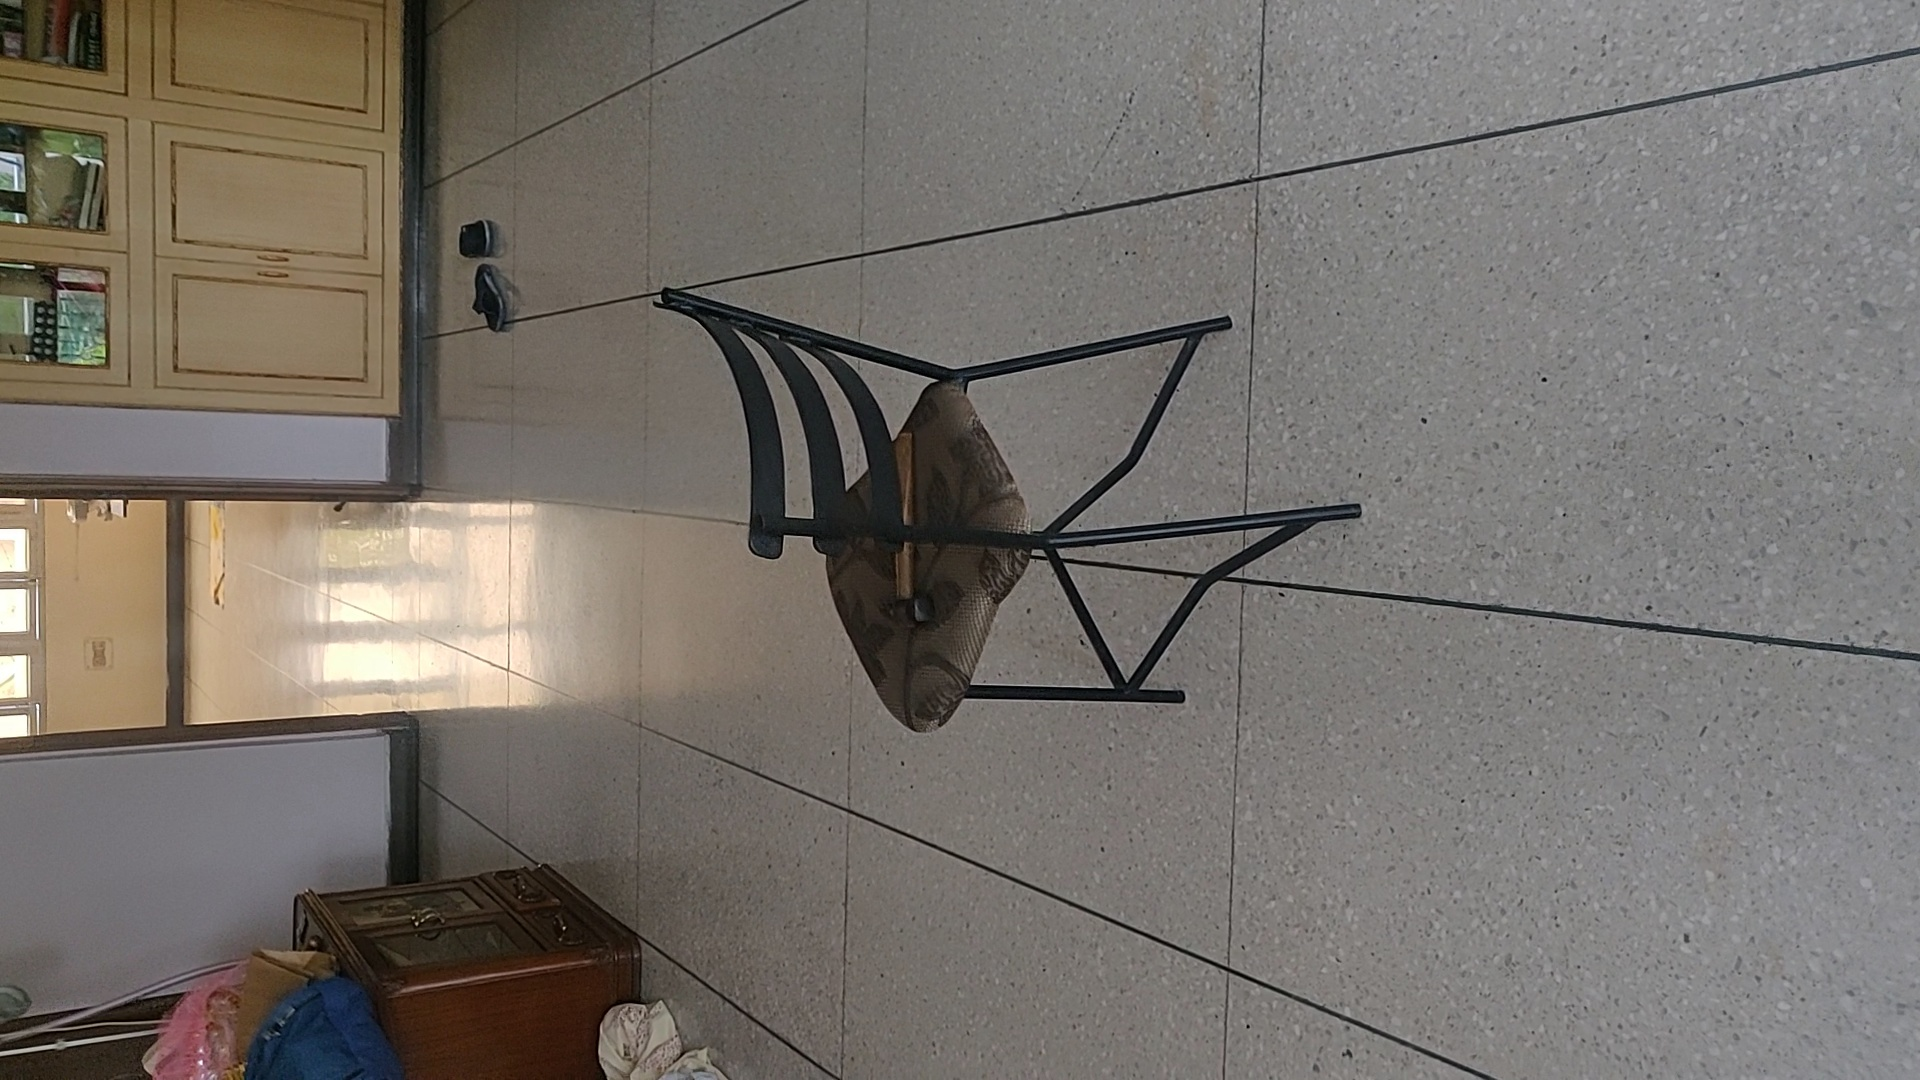hammer: (880, 430, 936, 632)
